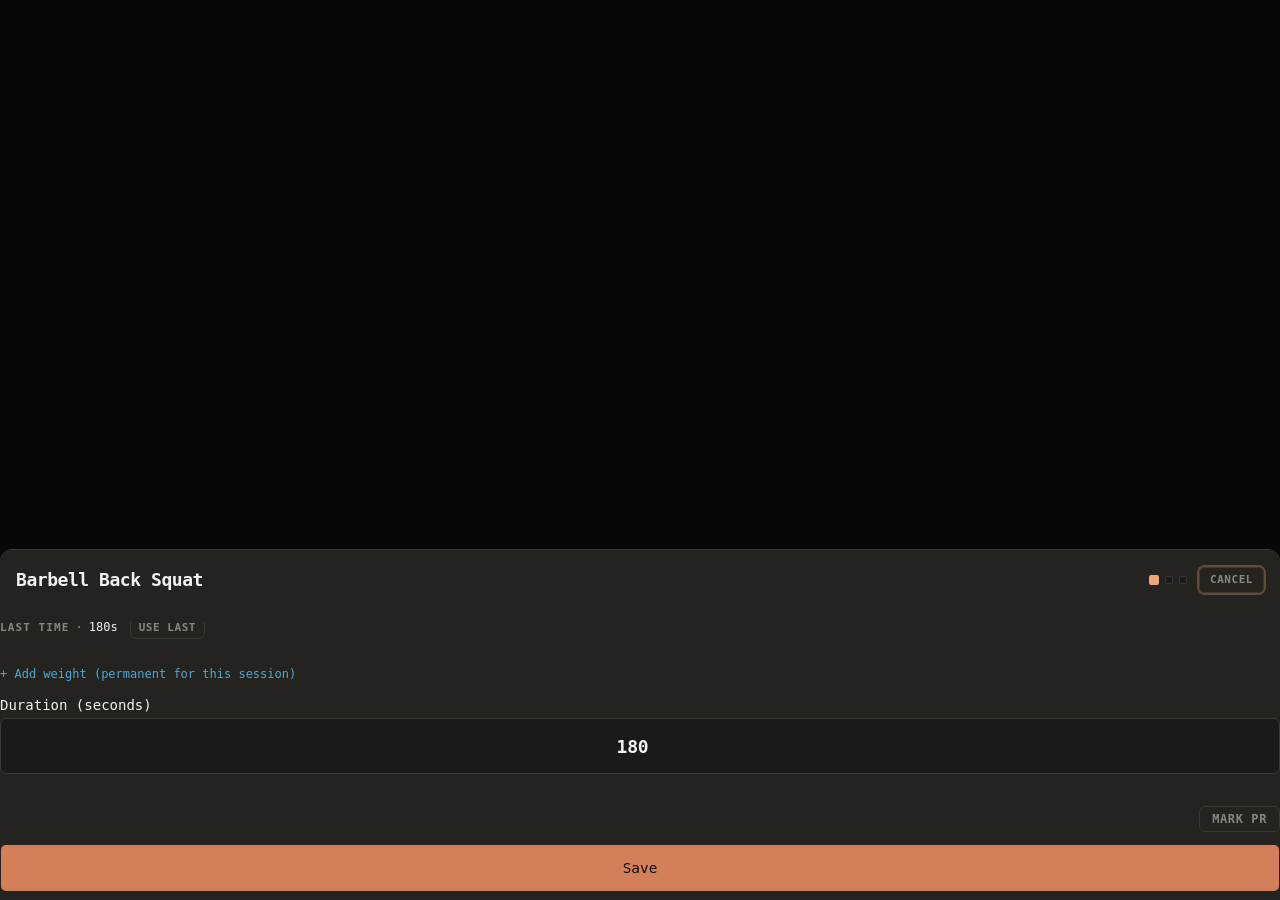
Test case: SetLogSheet — inline context › 'Use last' chip populates duration from lastTime when tapped on a duration target
Replace the text in the number field labelled "Duration (seconds)" with "99" at (640, 746), box [0,718,1279,774]
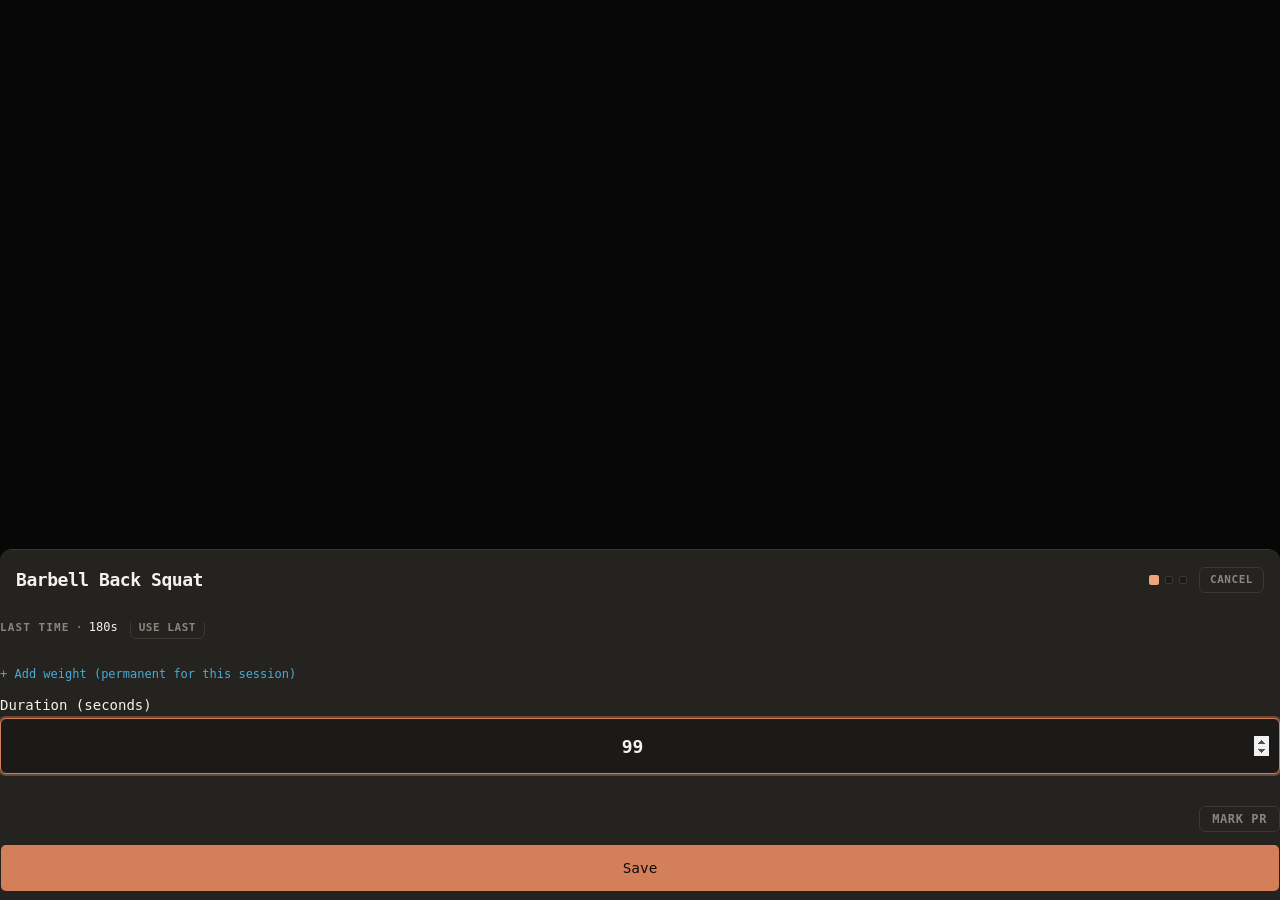
Click the button "Use last" at (167, 629), box [130,618,205,639]
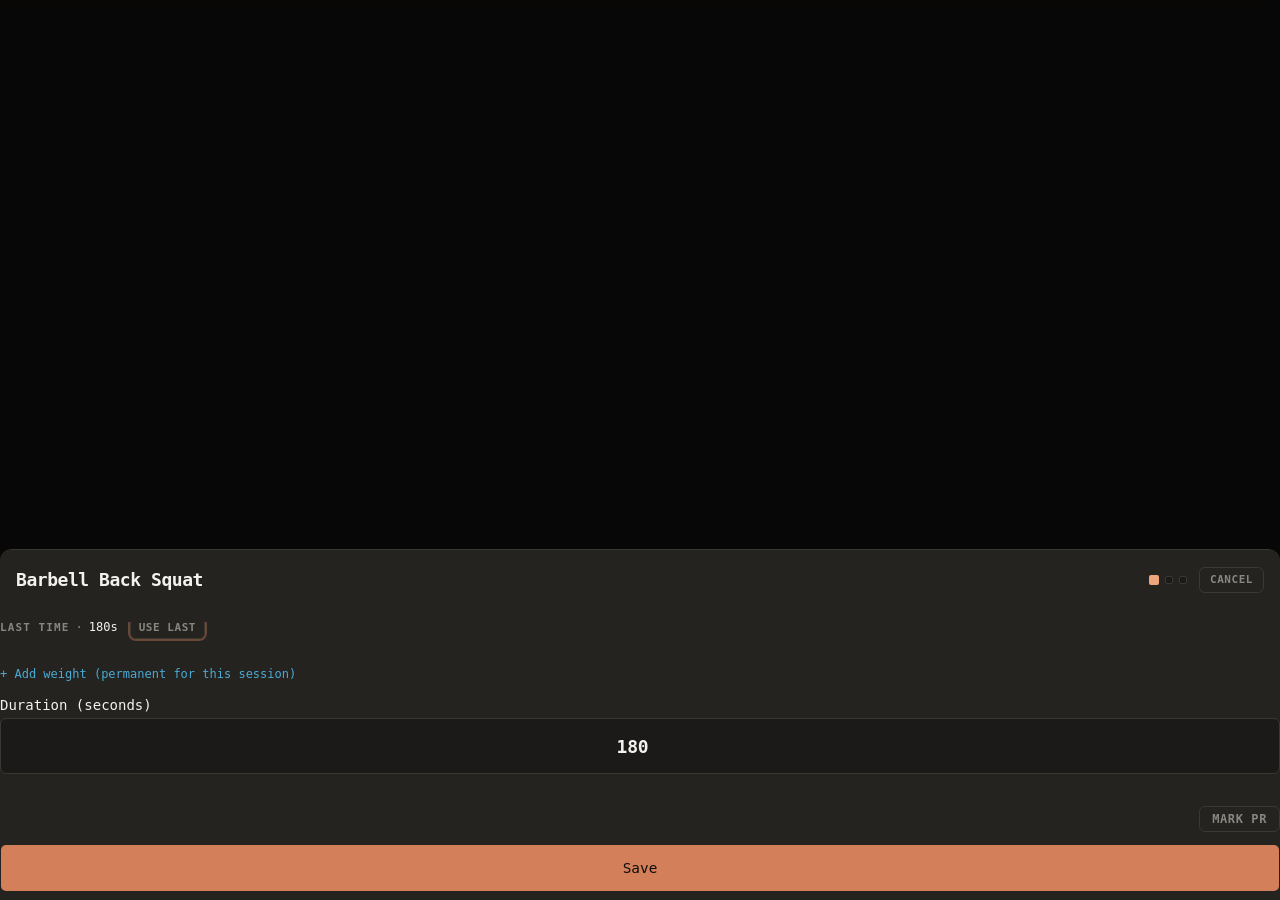
Expected: the number field labelled "Duration (seconds)" holds "180", [0,718,1279,774]
